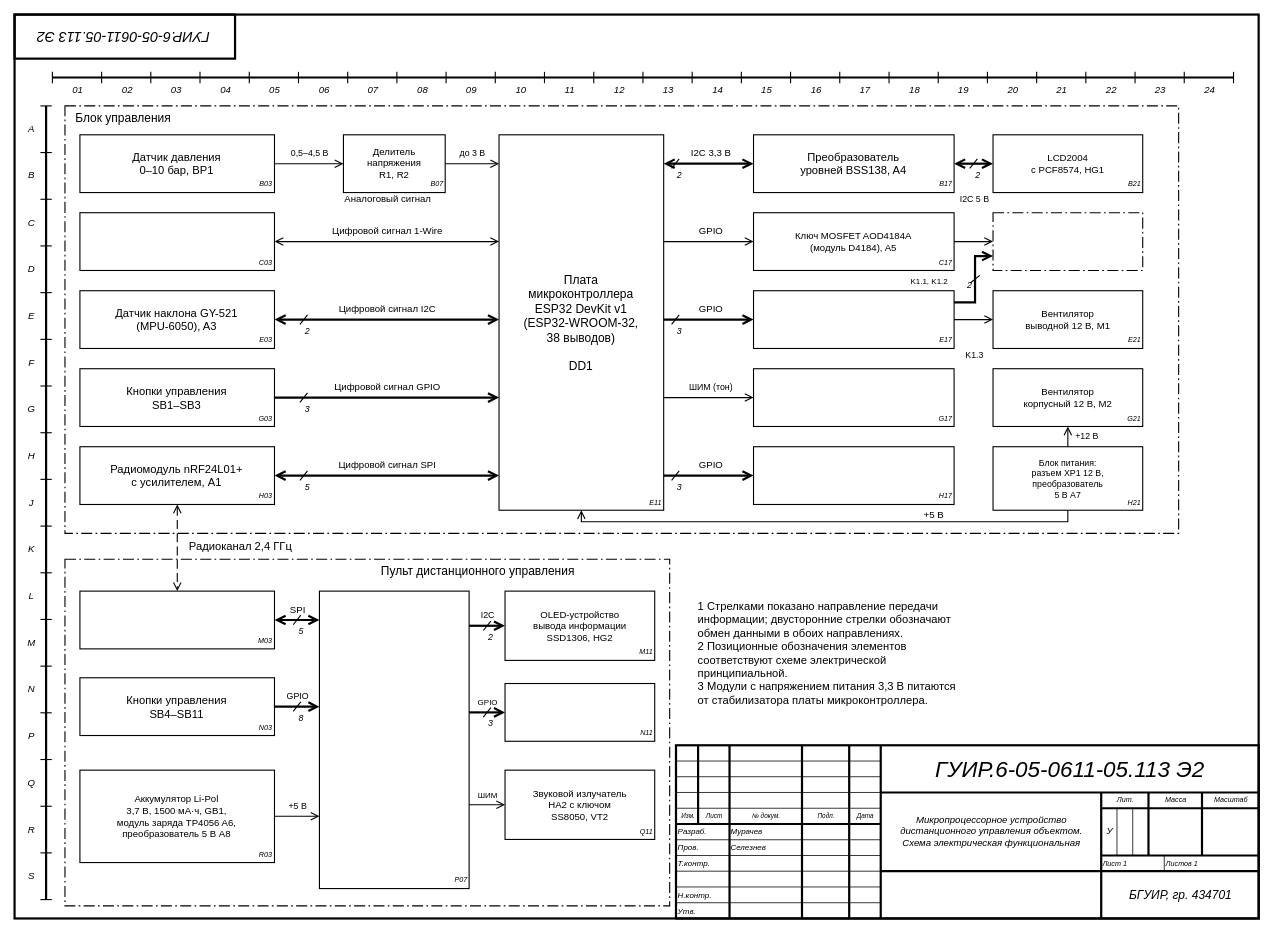
The diagram is 1274 pixels wide and 934 high, and some of its shapes have lost their labels. The shapes that lost their labels are listed below. From the top down, each one's box as (x1, y1, x2, y2) in pixels, then its label:
(79, 212, 275, 271): Датчик температуры DS18B20, BK1
(992, 212, 1143, 271): Электролизер, клапан, поджиг (объект управления)
(753, 290, 954, 349): Модуль реле SRD-05VDC-SL-C: K1.1 клапан, K1.2 поджиг, K1.3 вентилятор
(753, 368, 954, 427): Звуковой излучатель HA1 с ключом SS8050, VT1
(753, 446, 954, 505): Светодиоды HL1–HL3
(79, 590, 275, 649): Радиомодуль nRF24L01+, A2
(504, 683, 655, 741): Светодиоды HL4–HL6
(318, 590, 469, 889): Плата микроконтроллера ESP32 DevKit v1 (ESP32-WROOM-32, 38 выводов) DD2
